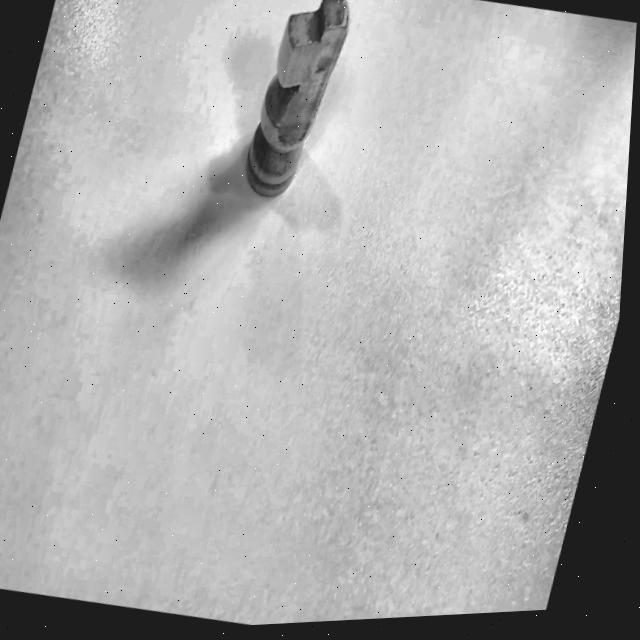black-knight: (219, 0, 367, 228)
